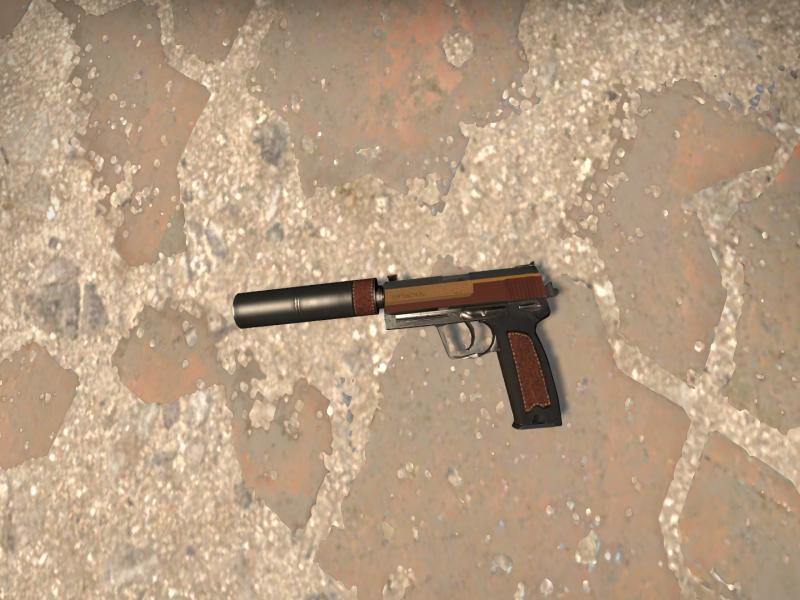USP: (235, 264, 561, 428)
